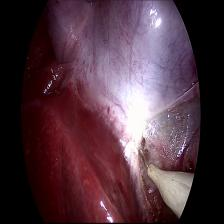Hook: (133, 144, 197, 218)
